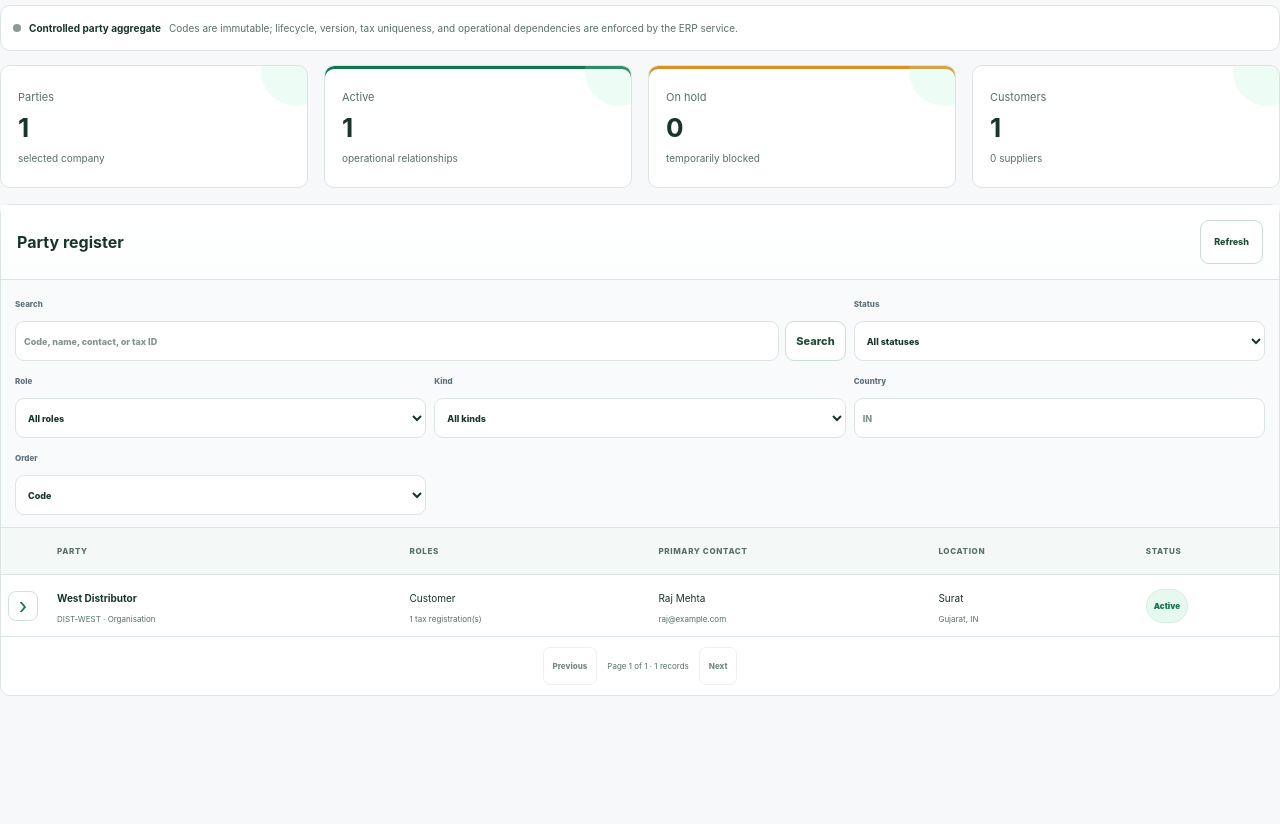
party master workspace › preserves child identities on update and uses the refreshed version for lifecycle control
Expected: the text "West Distributor" is shown, [57,592,137,604]
Click the button named "Expand DIST-WEST West Distributor" at x=23, y=606, box [8,591,38,621]
(page scrolled)
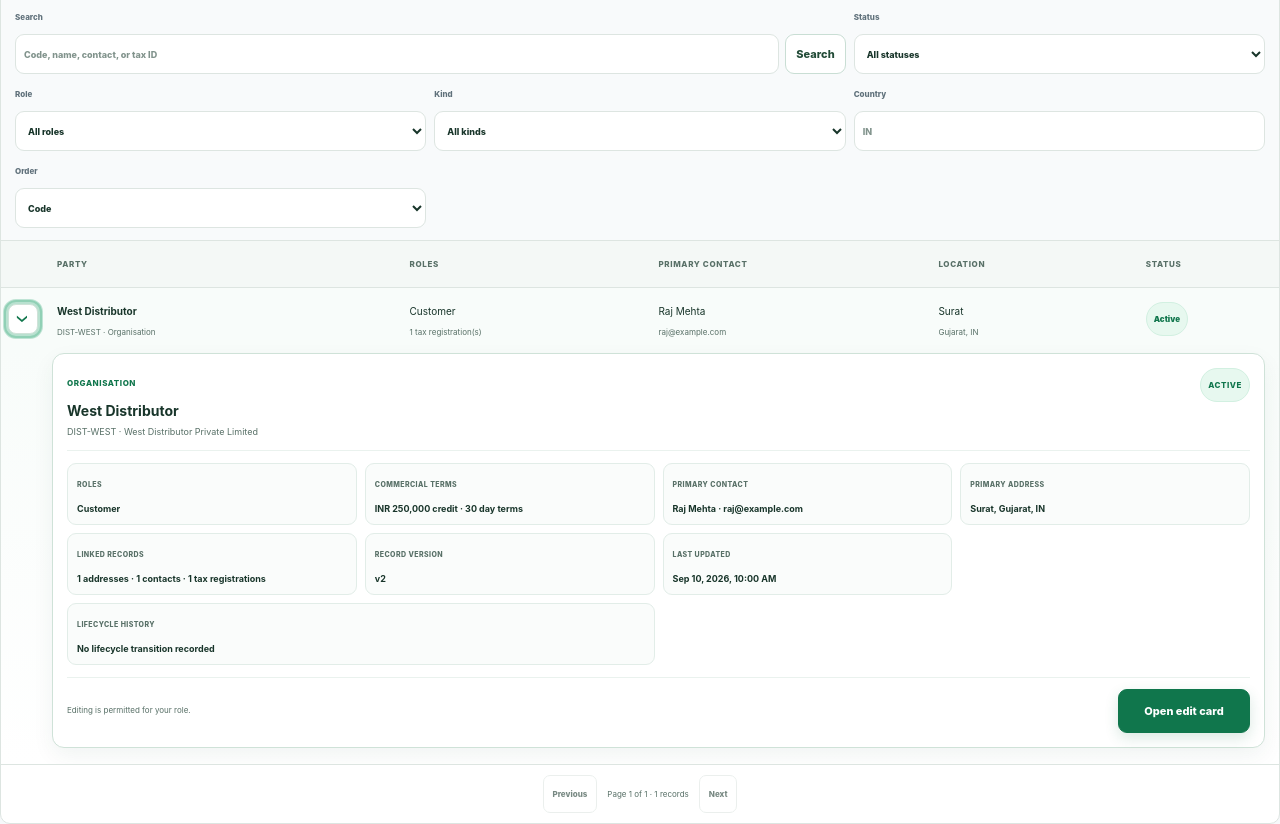
Click the button "Open edit card" at x=1184, y=711, box [1118,689,1250,733]
(page scrolled)
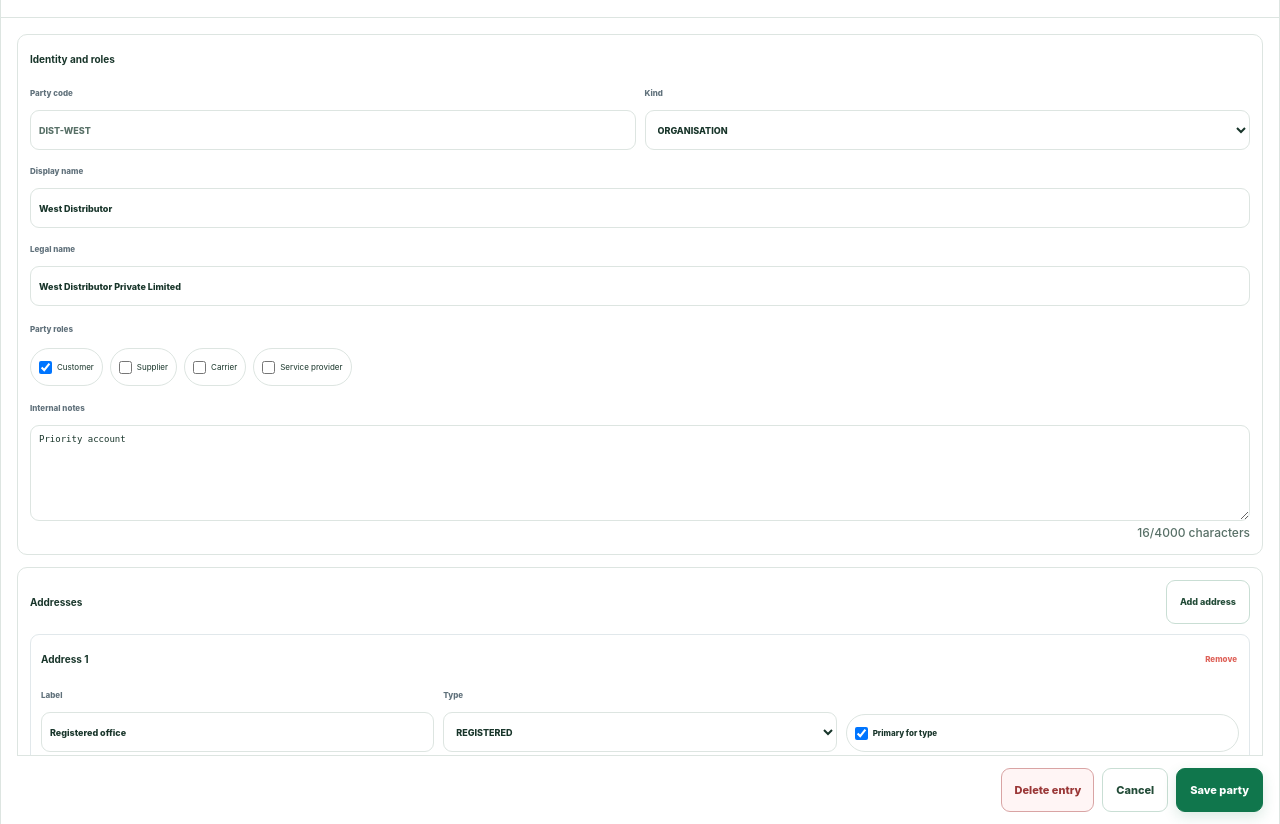
Replace the text in the field labelled "Display name" with "West Distributor Updated" at x=640, y=208, box [30,188,1250,228]
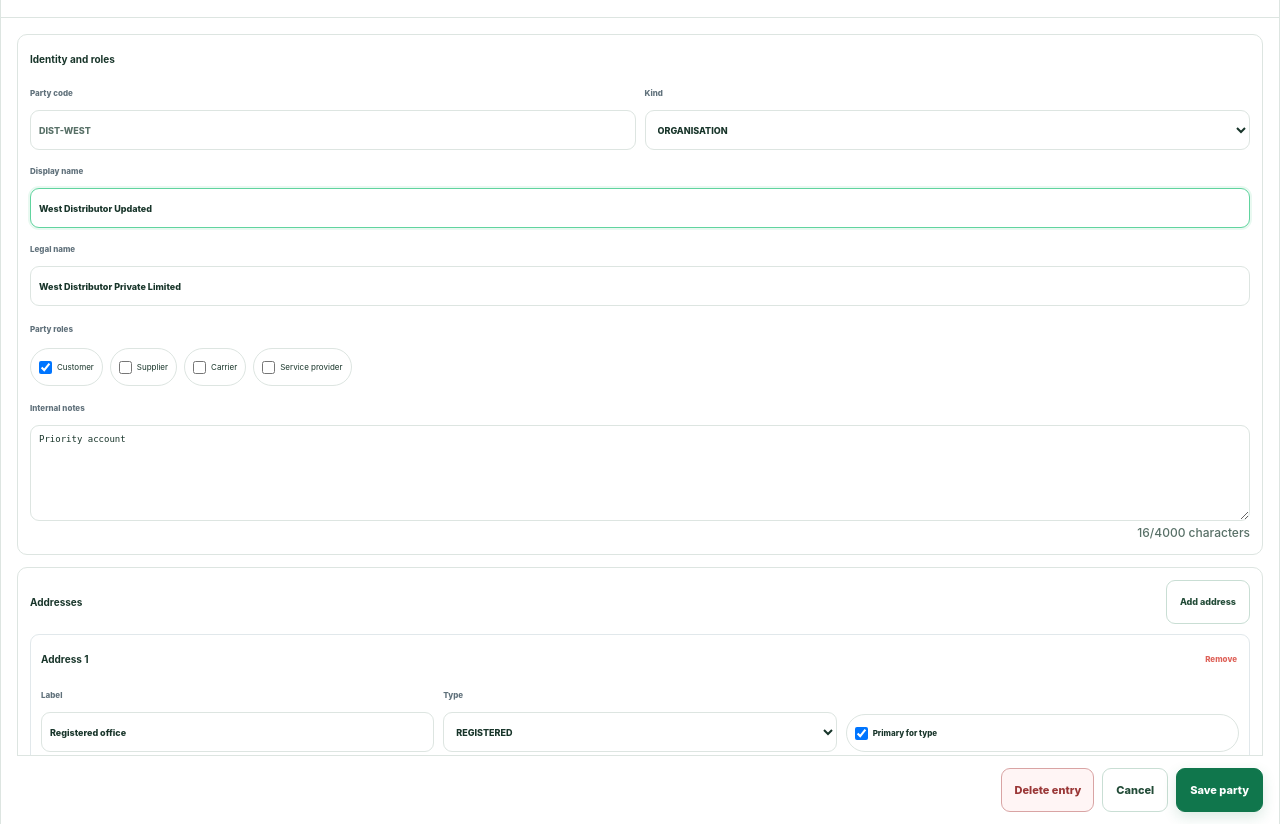
Click the button "Save party" at x=1220, y=790, box [1176,768,1263,812]
(page scrolled)
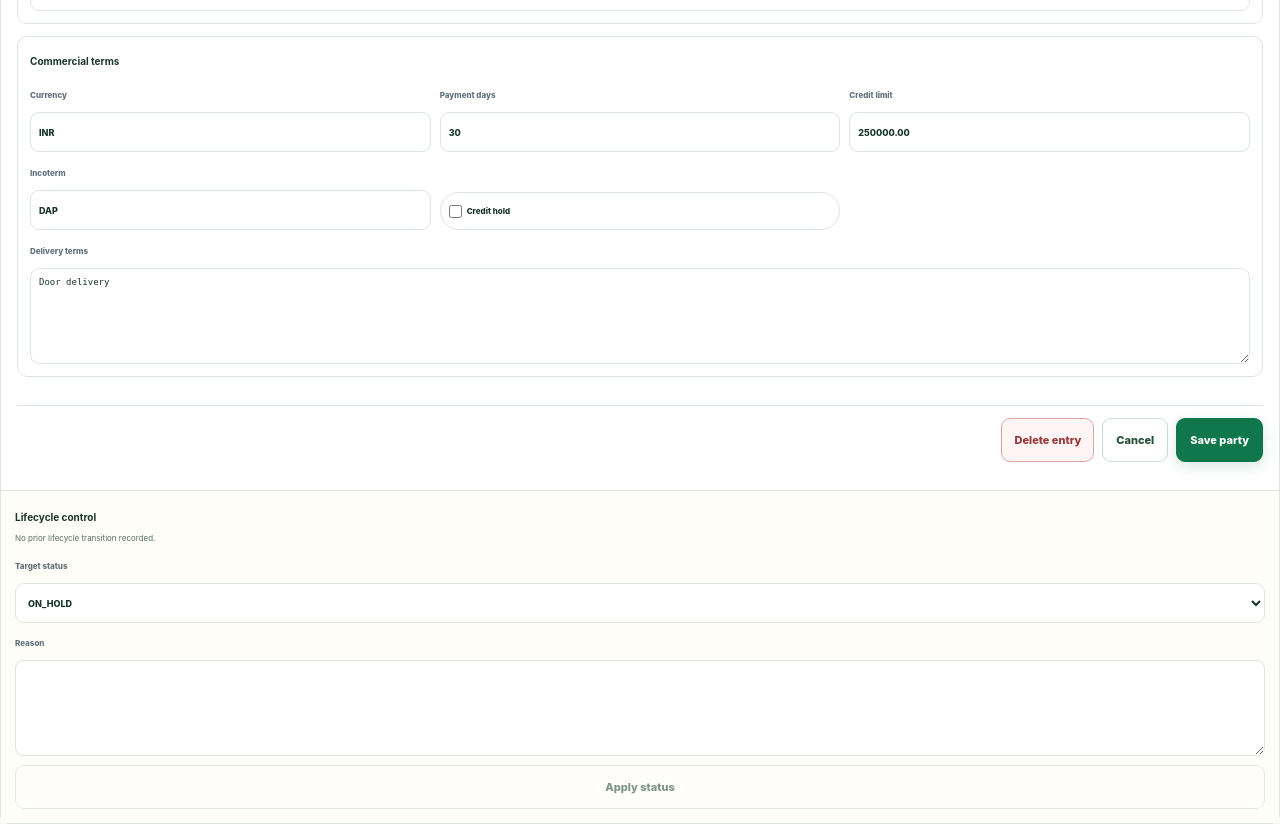
Type "Credit review required" into the text box named "Party status reason" at x=640, y=708, box [15,660,1265,756]
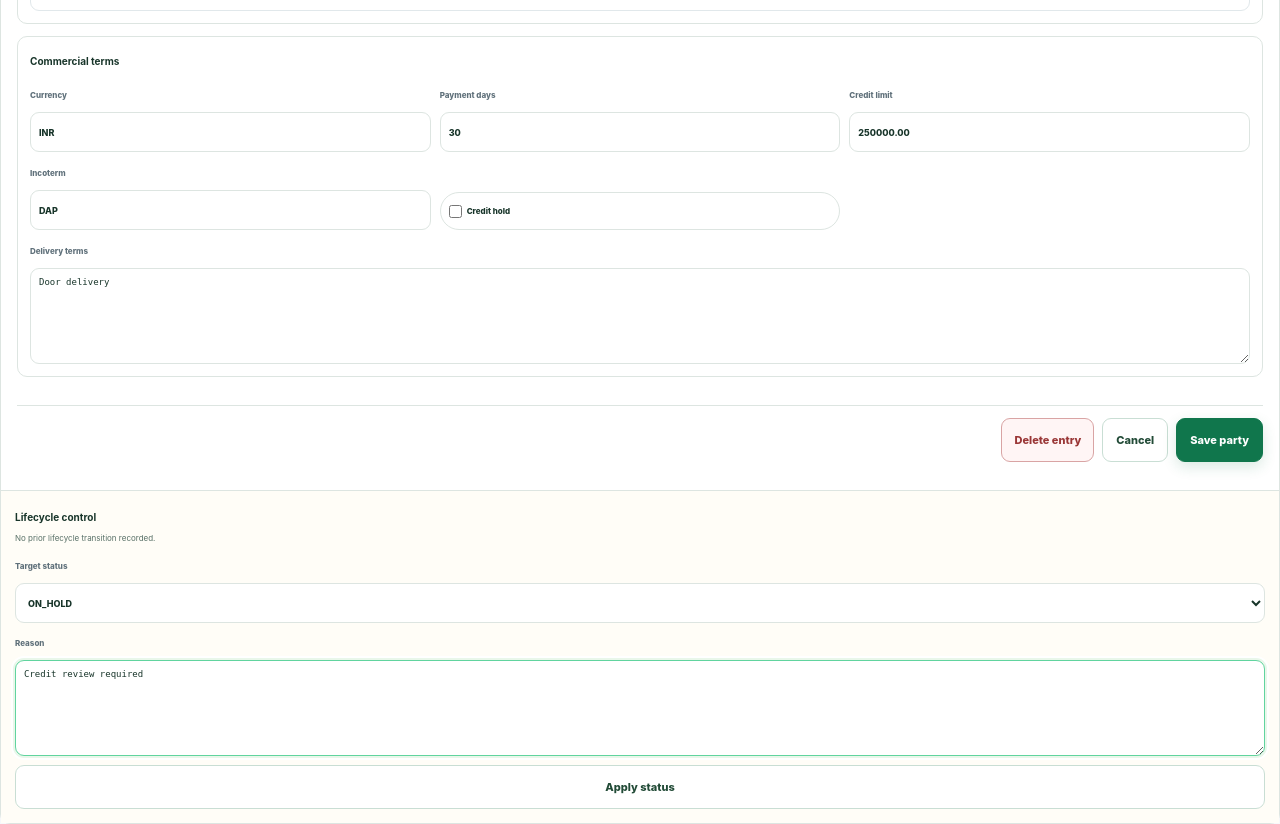
Click the button "Apply status" at x=640, y=787, box [15,765,1265,809]
(page scrolled)
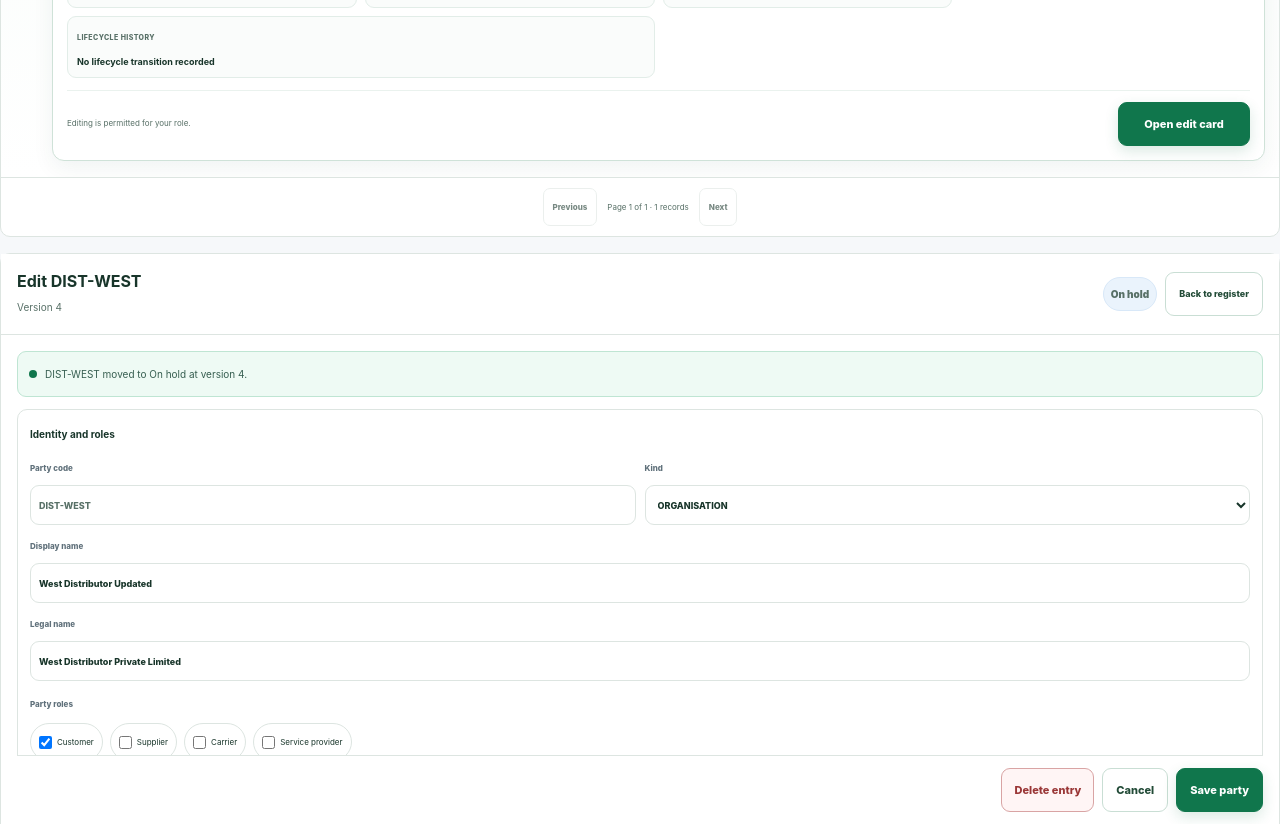
Now the message shows "moved to On hold at version 4", box [45,368,247,380]
